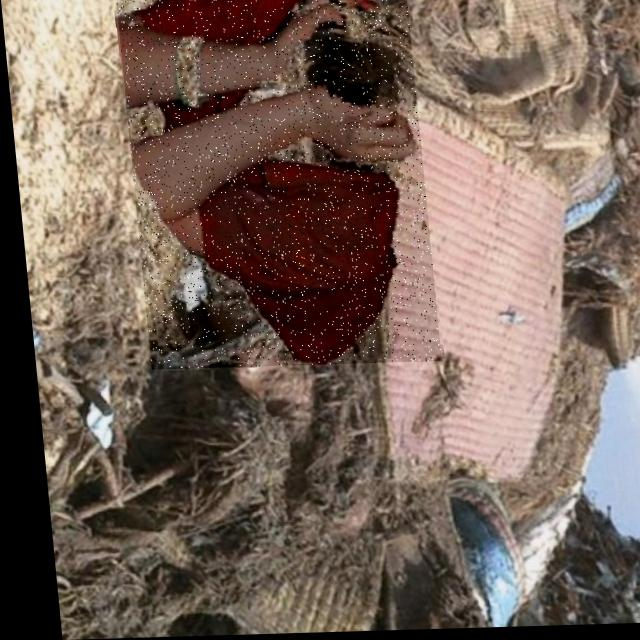Person in Rubble: (115, 0, 433, 370)
